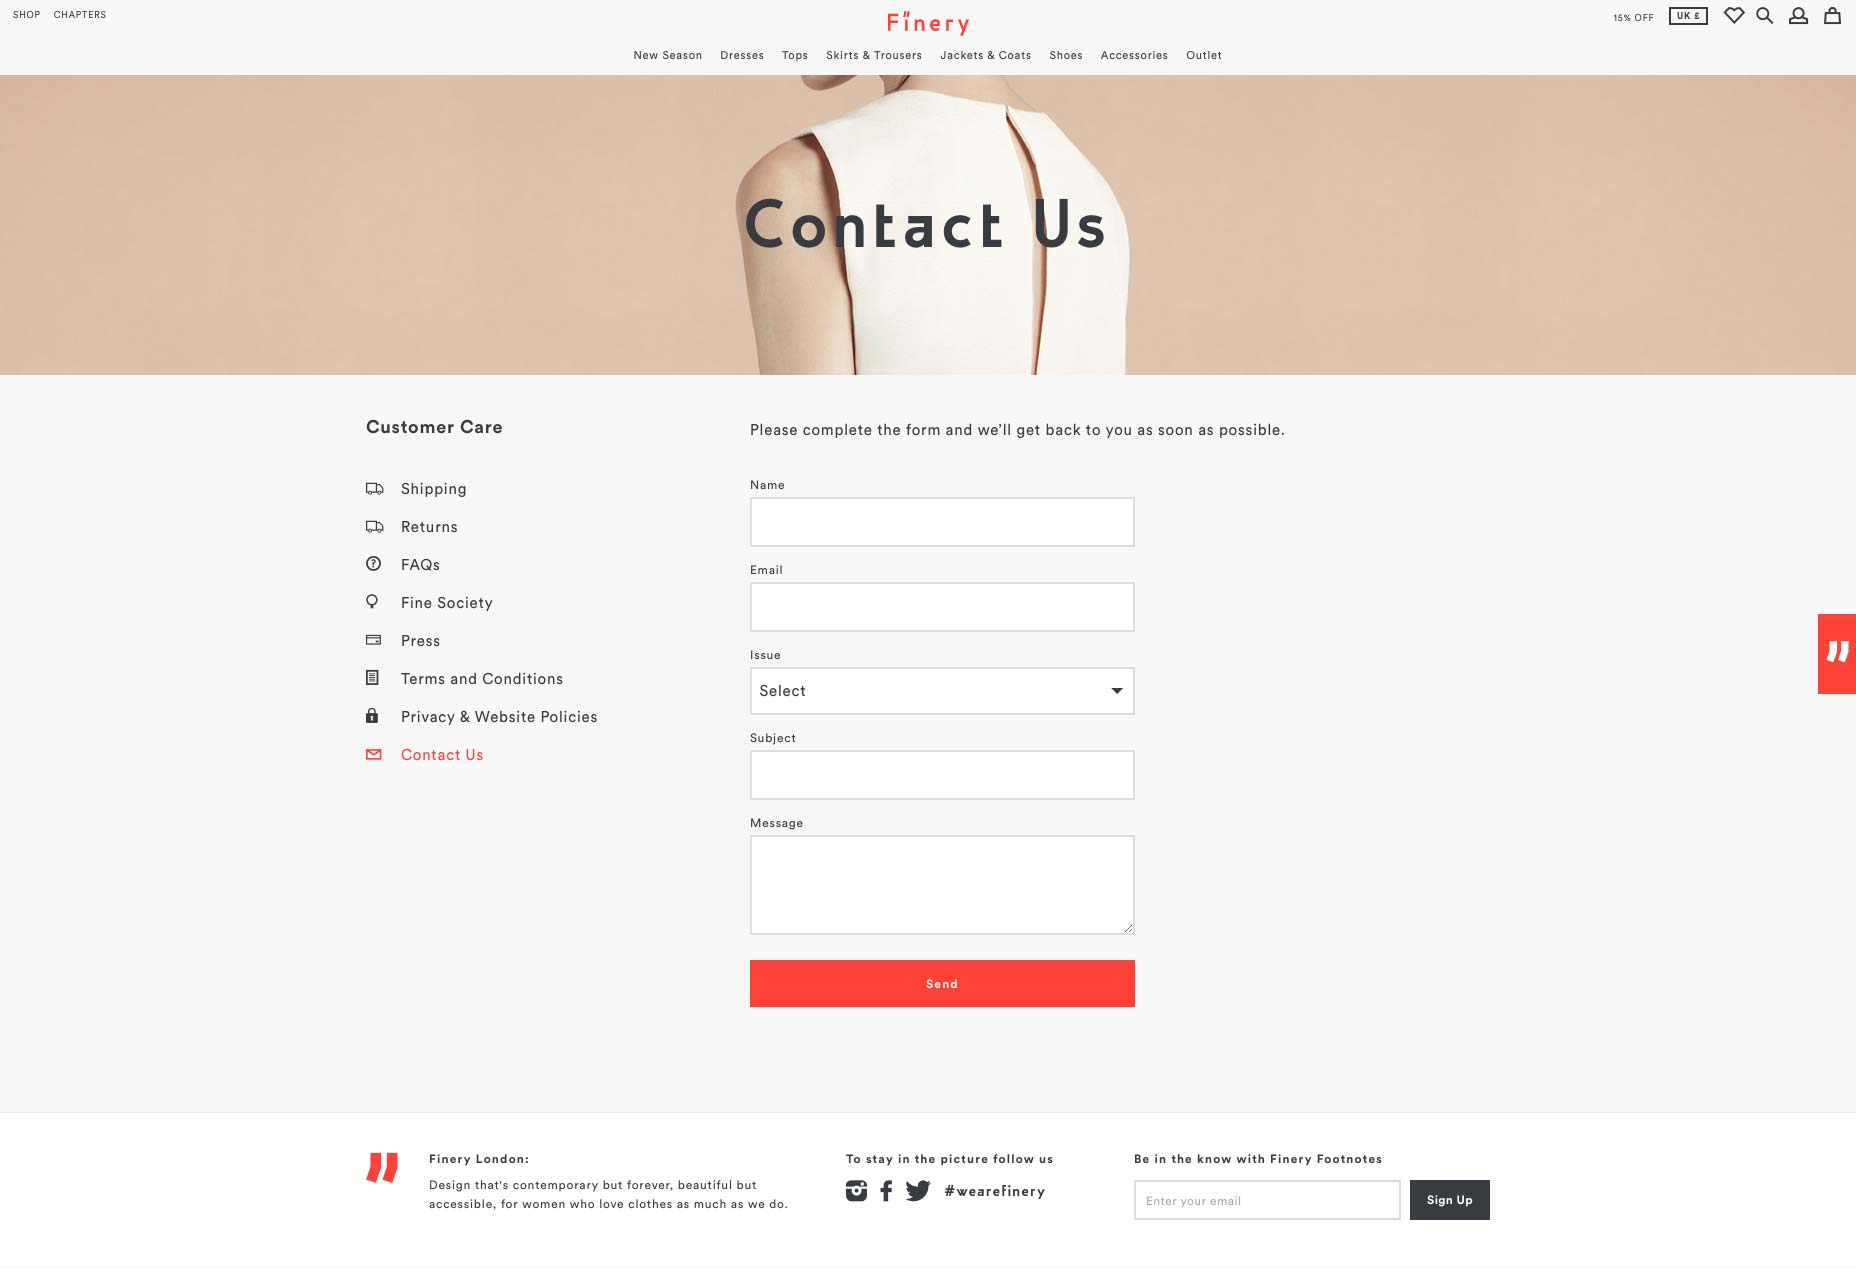_form_: (735, 405, 1151, 820), (731, 650, 1147, 1066), (1101, 864, 1518, 1280)
button: (749, 959, 1135, 1008), (1410, 1179, 1489, 1221)
field: (747, 835, 1135, 935), (747, 495, 1134, 548), (747, 749, 1134, 801), (747, 581, 1135, 632), (749, 665, 1135, 715), (1132, 1179, 1400, 1219)
field_with_label: (745, 819, 1140, 937), (745, 476, 1140, 551), (743, 729, 1137, 804), (745, 562, 1140, 634), (746, 648, 1140, 718)
